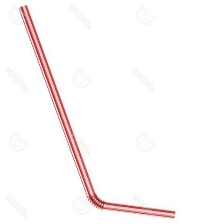drinking_straw: (14, 1, 180, 222)
